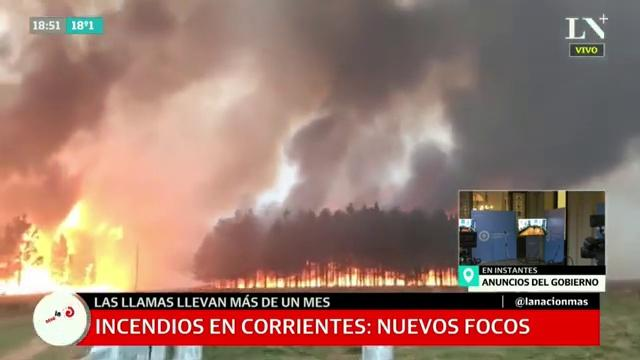fire: (60, 210, 122, 289), (10, 229, 59, 265)
smoke: (486, 69, 613, 168), (331, 13, 430, 81), (11, 91, 75, 195)
